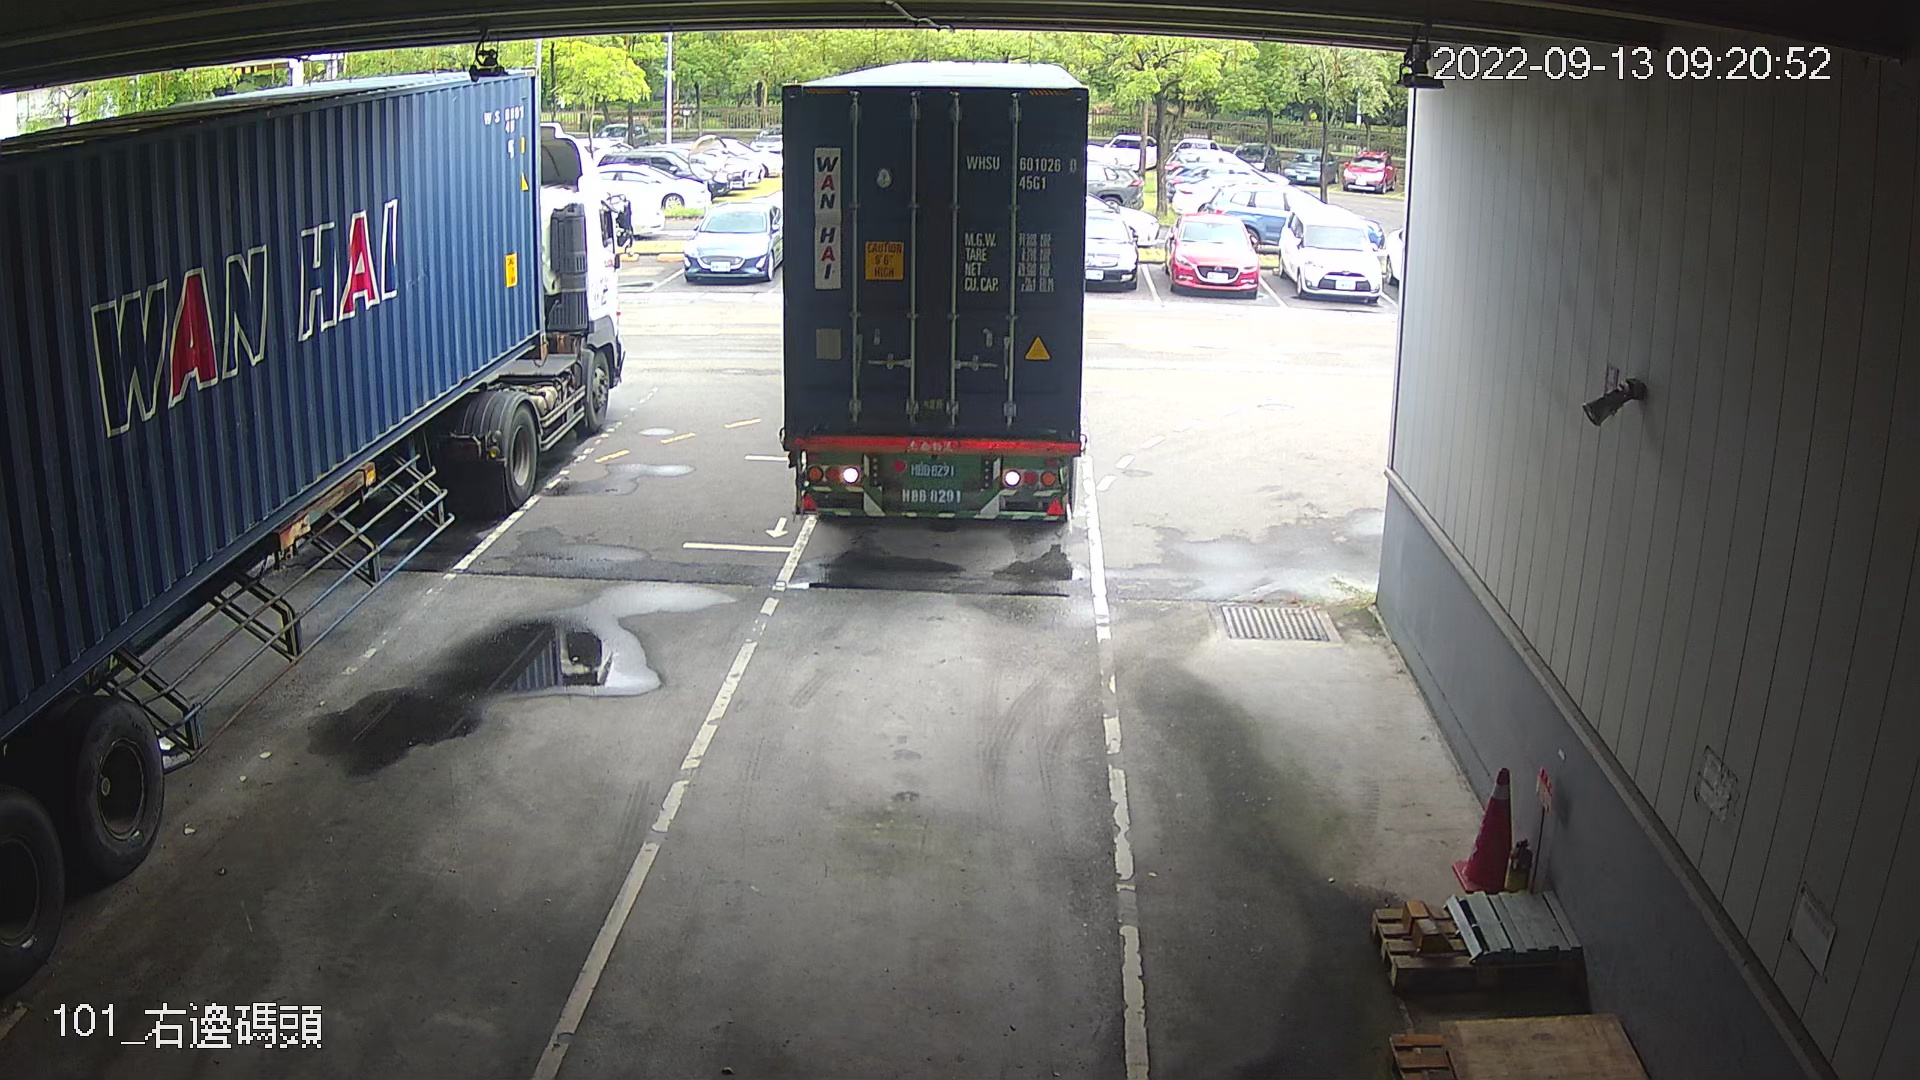container: (960, 144, 1081, 195)
